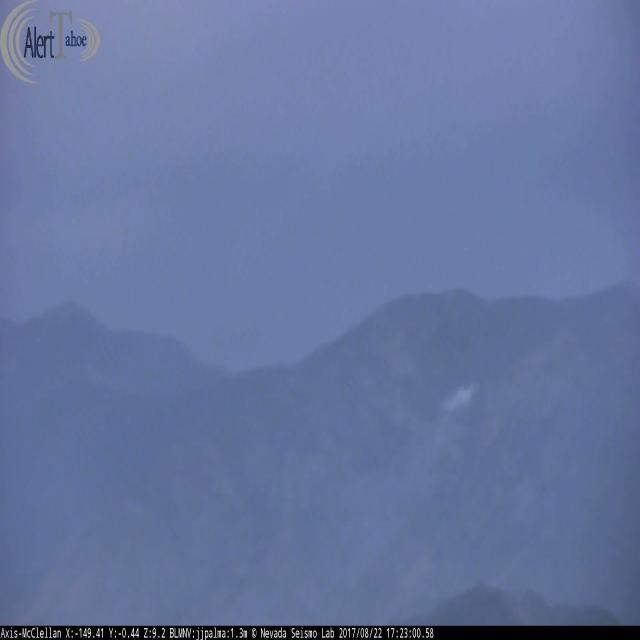smoke: (440, 381, 477, 415)
